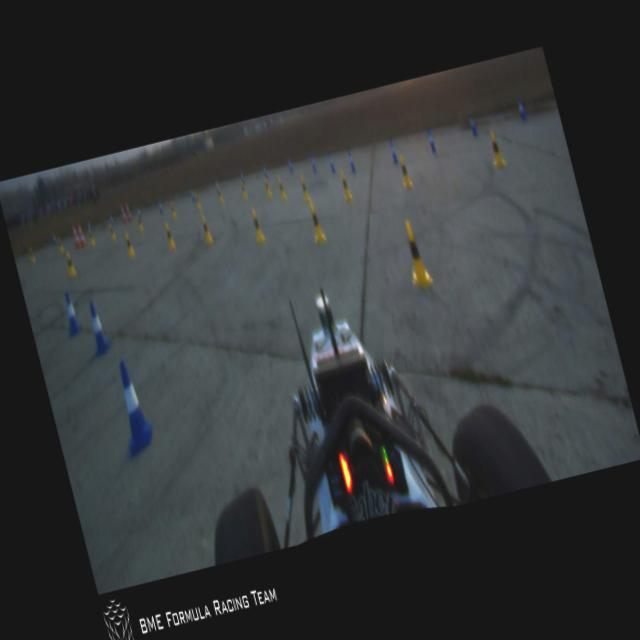blue_cone: (104, 356, 158, 459), (80, 296, 113, 360), (58, 288, 84, 338), (387, 138, 399, 166), (516, 96, 528, 122), (467, 112, 479, 137), (345, 147, 356, 173), (426, 130, 436, 154), (326, 152, 336, 172), (309, 154, 317, 172), (134, 204, 142, 222), (286, 156, 294, 172), (261, 162, 268, 178), (85, 218, 92, 232), (157, 200, 163, 215), (52, 234, 58, 248), (108, 213, 114, 227), (190, 188, 196, 202), (214, 178, 220, 192), (239, 169, 245, 182)
large_orange_cone: (68, 219, 82, 249), (74, 217, 86, 247), (123, 198, 133, 222), (118, 200, 127, 223)
yellow_cone: (397, 218, 435, 294), (305, 200, 328, 246), (485, 128, 507, 170), (248, 206, 266, 244), (396, 153, 414, 190), (198, 212, 214, 244), (338, 169, 353, 203), (162, 219, 176, 251), (63, 250, 77, 278), (122, 230, 136, 258), (298, 174, 311, 203), (276, 176, 287, 200), (262, 177, 272, 200), (239, 179, 249, 201), (26, 243, 36, 265), (135, 213, 144, 232), (86, 228, 95, 246), (108, 221, 116, 241), (168, 200, 176, 218), (194, 192, 202, 210), (216, 186, 224, 203), (56, 236, 64, 253)
